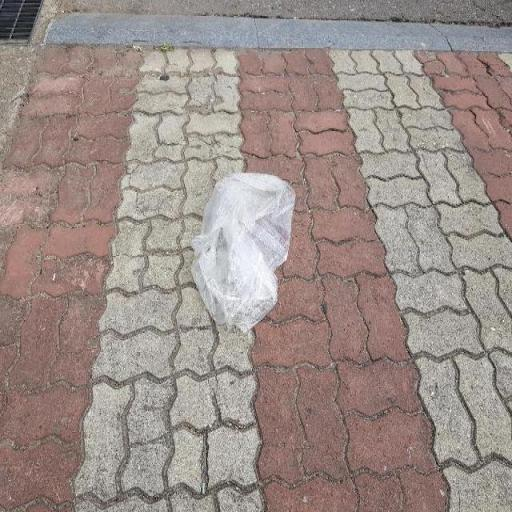plastic-bag: (189, 168, 295, 332)
